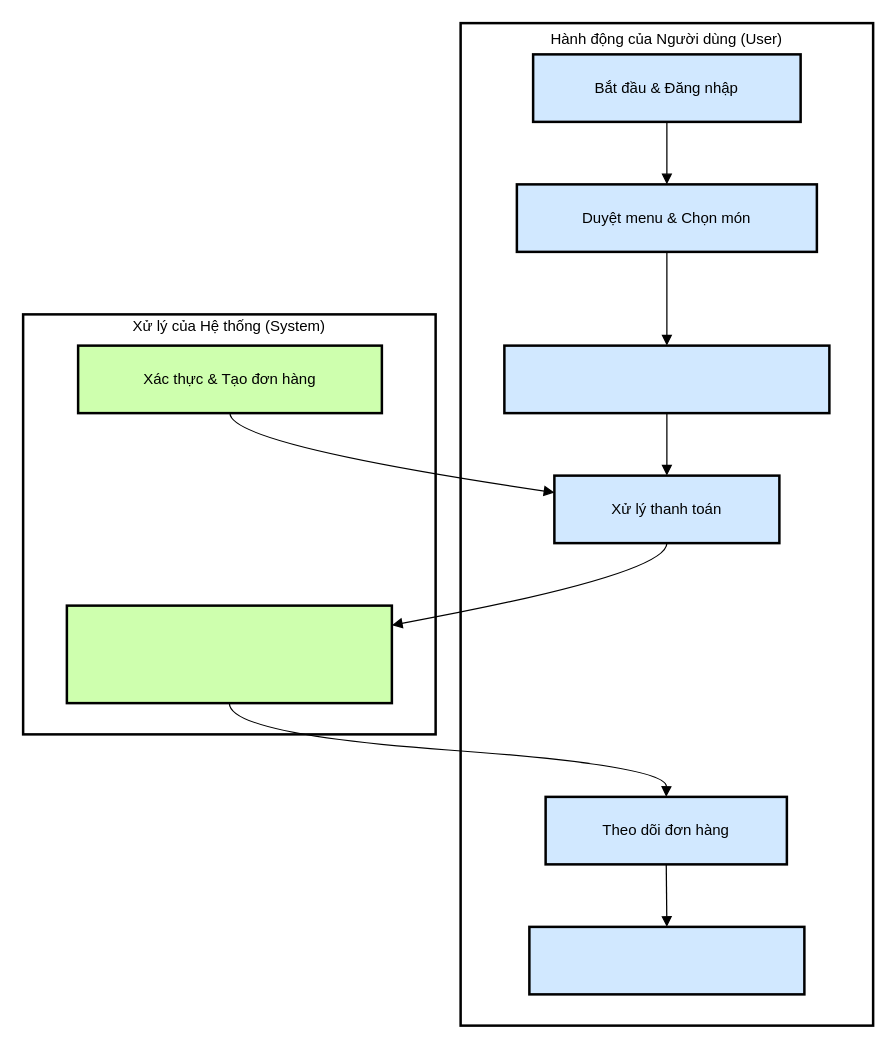
Image size: 895x1048. Some labels were removed from this diagram. The centre of each missing label's shape, as x and y in pixels:
"Cập nhật trạng thái & Gửi thông báo real-time" goes at [228,654].
"Nhận hàng & Hoàn tất" goes at [666,960].
"Xác nhận đơn & Thanh toán" goes at [666,379].
